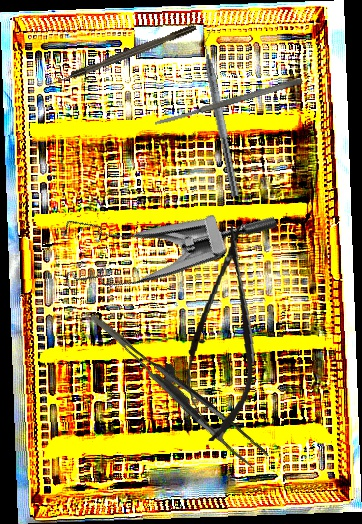Chopper: (196, 27, 251, 198)
Hook Surgical: (44, 23, 198, 90)
Micro Scissor: (178, 221, 269, 445)
Spatula Surgical: (153, 77, 304, 127)
Speculum: (40, 134, 280, 329)
Tissue Forceps: (90, 288, 269, 485)
